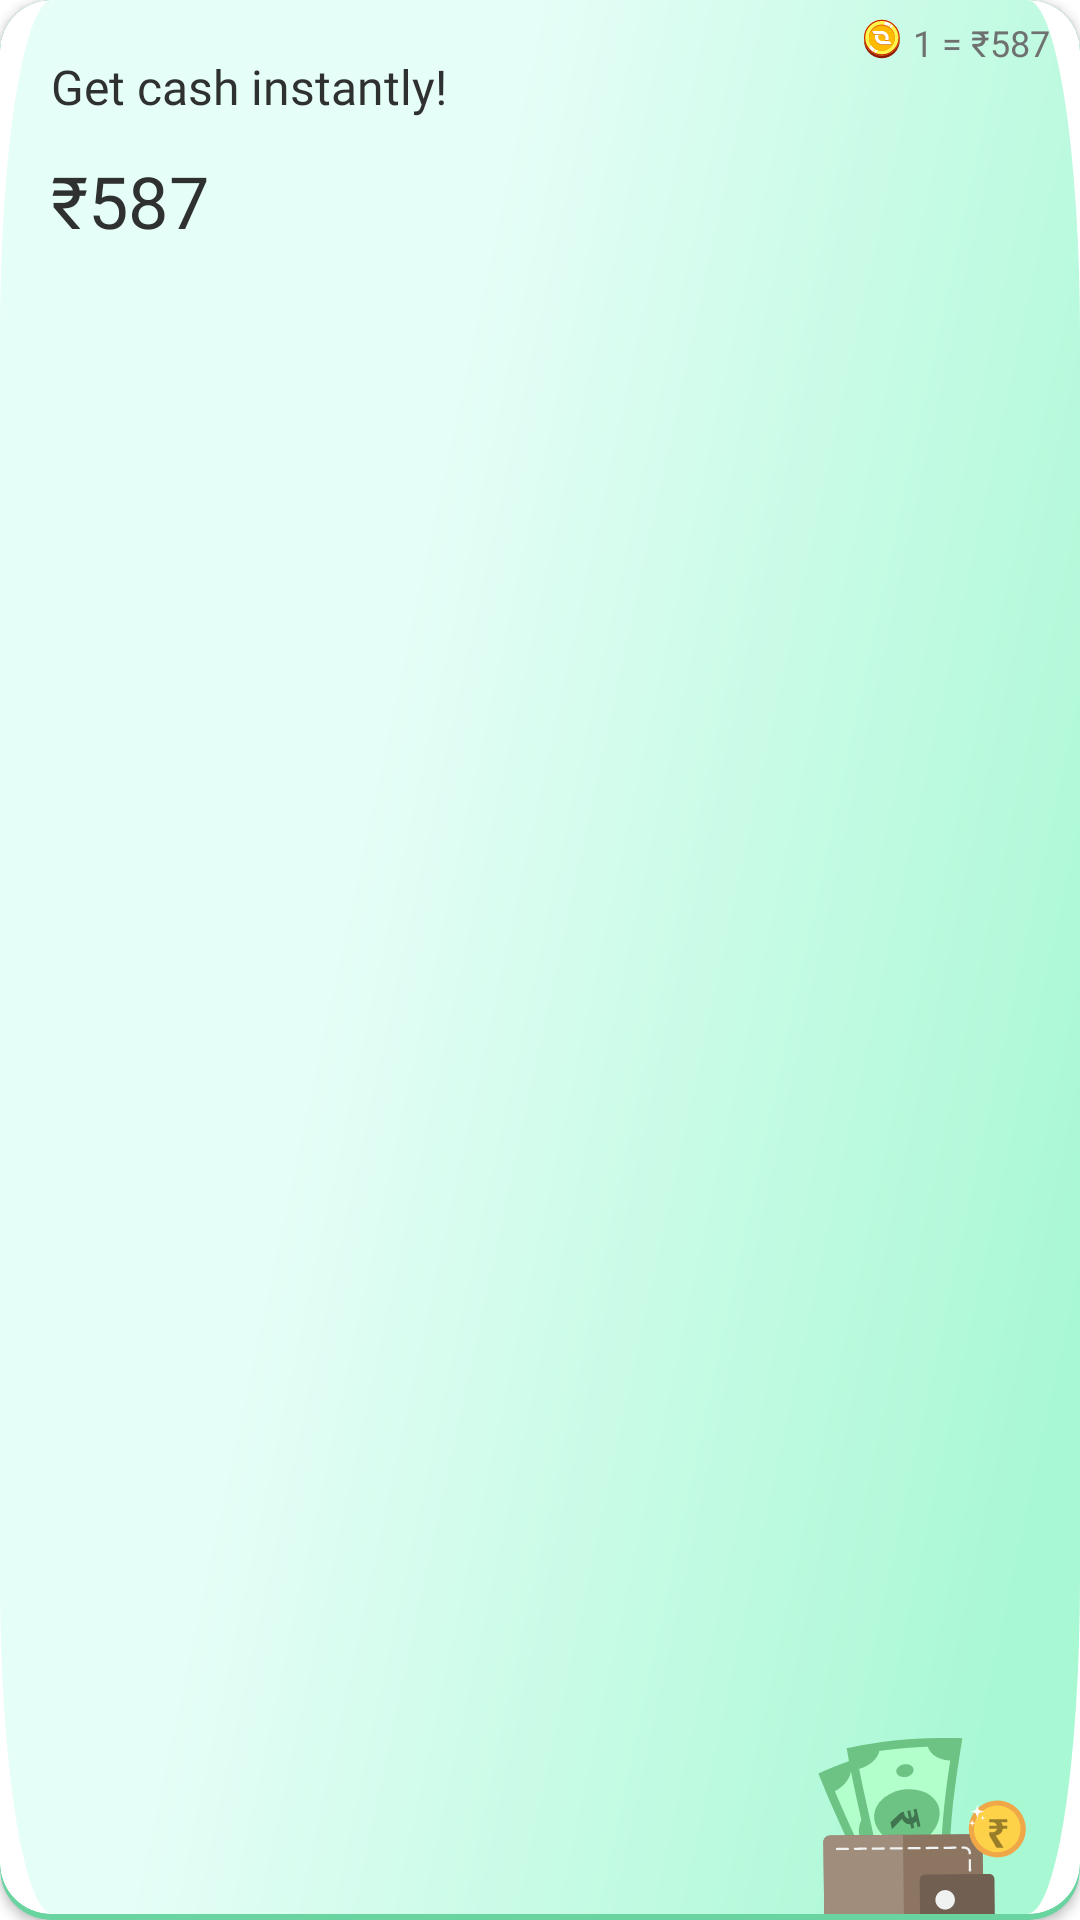

Where icons sit on this 1080×1920 app screen, as (x1, y1, x2, y2):
get cash: (819, 1738, 1026, 1914)
single chips: (864, 19, 900, 59)
